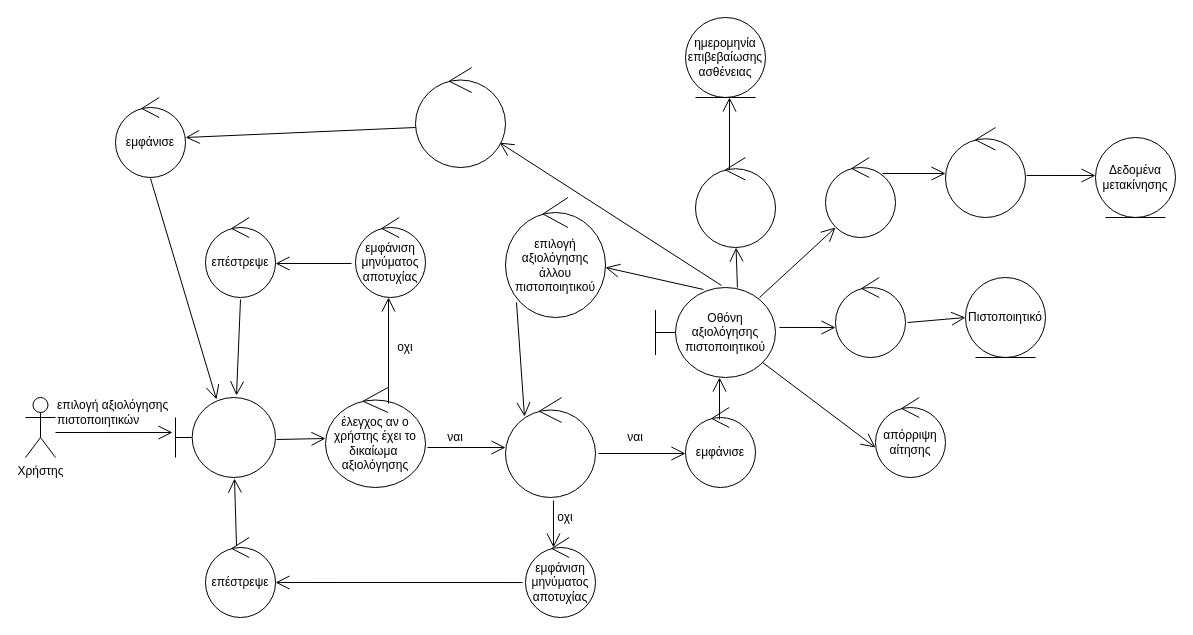
This 1193x635 diagram has some shape labels left out. Each missing label, with the centre of its shape:
"έλεγχος αν υπάρχει αίτηση προς αξιολόγηση" goes at point 550,447.
"αποδοχή αίτησης" goes at point 860,197.
"Αρχική Οθόνη" goes at point 225,437.
"διαλέγει και εμφανίζει" goes at point 870,317.
"επεξεργασία και εισαγωγή" goes at point 985,172.
"επιλογή έξοδος από την οθόνη αξιολόγησης" goes at point 460,117.
"συμπλήρωση πεδίου" goes at point 735,202.
